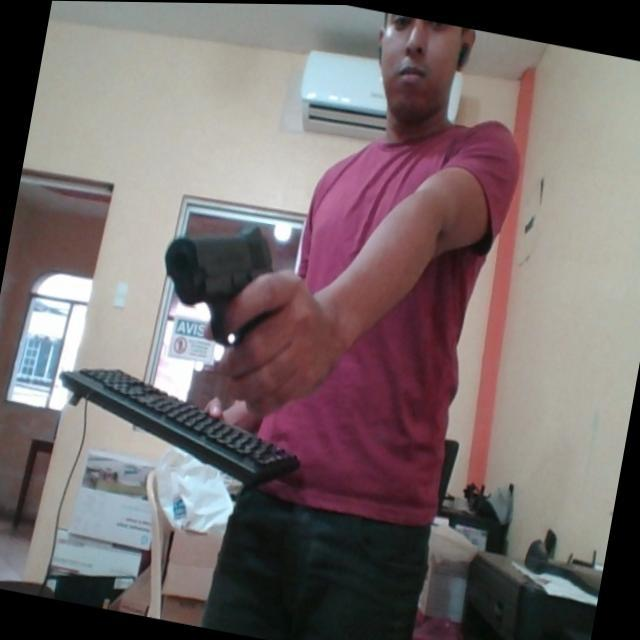weapon: (150, 205, 288, 356)
